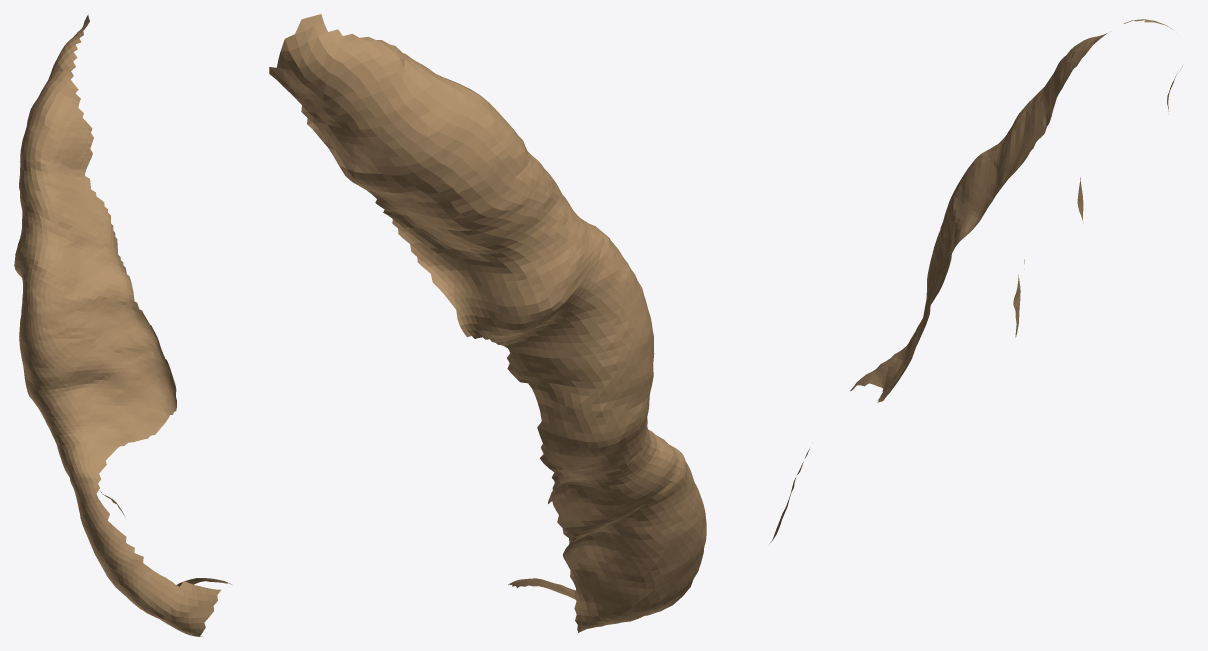
The model's file is lh_middletemporal.glb.
The picture shows the model from 3 angles, left to right: view 1: azimuth 30°, elevation 25°; view 2: azimuth 150°, elevation 25°; view 3: azimuth 270°, elevation 25°; orthographic projection. The views are drawn at different scales.
Parts seen in each view (by area): view 1: world; view 2: world; view 3: world.
Part boxes in pixels (x1,y1,x2,y2): world: (14, 14, 231, 636); world: (269, 14, 706, 632); world: (770, 19, 1182, 542).
Size of the model in its own units: 27.31 by 78.89 by 51.74.
